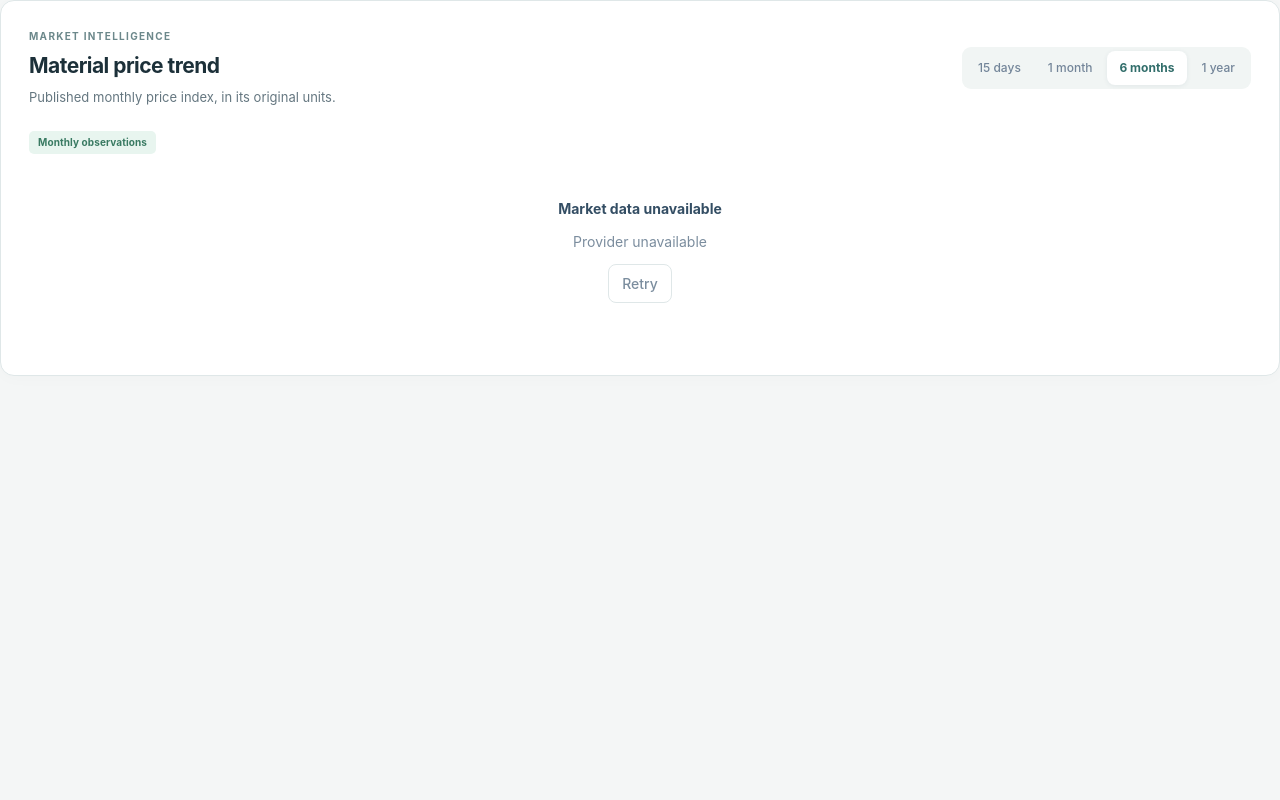
Test case: Material price history › allows retry after an upstream error
Check: the message "Market data unavailable Provider unavailable Retry" is shown, box [558,200,722,303]
Click the button "Retry" at [640, 284], box [608,264,672,303]
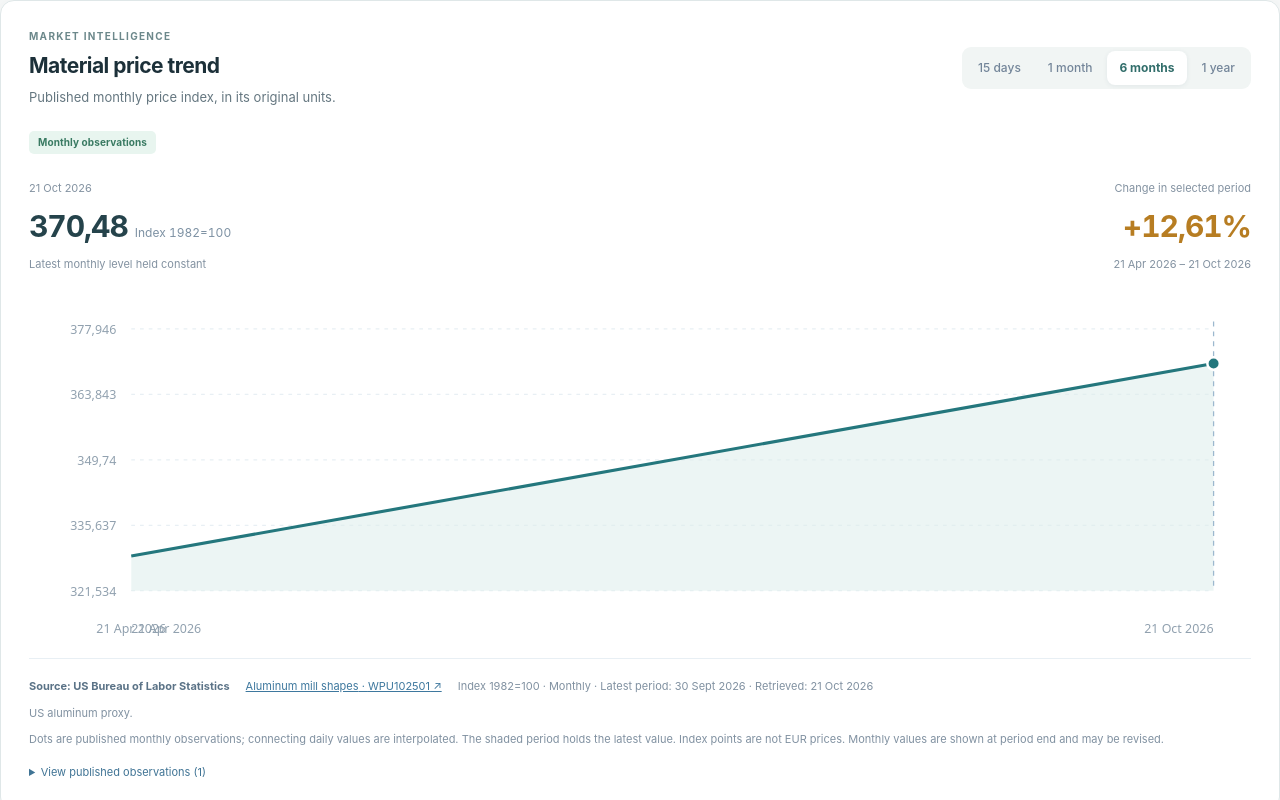
Check: the picture is shown, box [29,284,1251,658]
Check: the message "Market data unavailable Provider unavailable Retry" is gone
